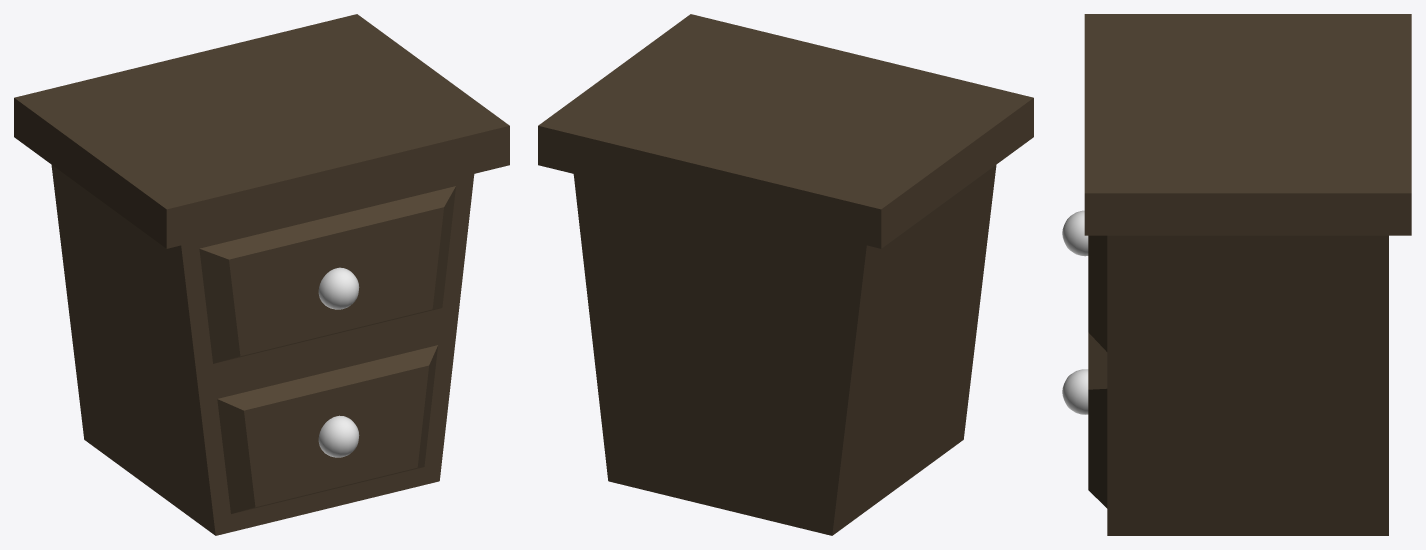
File: dresser.glb
3 views of the same model, side by side, from view 1: azimuth 30°, elevation 25°; view 2: azimuth 150°, elevation 25°; view 3: azimuth 270°, elevation 25° (orthographic). The views are drawn at different scales.
Visible parts, largest first — view 1: Cube.001, Sphere, Sphere.001; view 2: Cube.001; view 3: Cube.001, Sphere.001, Sphere.
Part boxes in pixels (x1,y1,x2,y2): Cube.001: [14, 14, 509, 535]; Sphere: [318, 267, 359, 309]; Sphere.001: [318, 415, 359, 457]; Cube.001: [538, 14, 1033, 535]; Cube.001: [1084, 14, 1411, 535]; Sphere.001: [1062, 369, 1088, 414]; Sphere: [1062, 210, 1088, 256].
Bounding box in the file's own units: 2.32 × 2.26 × 1.91.
